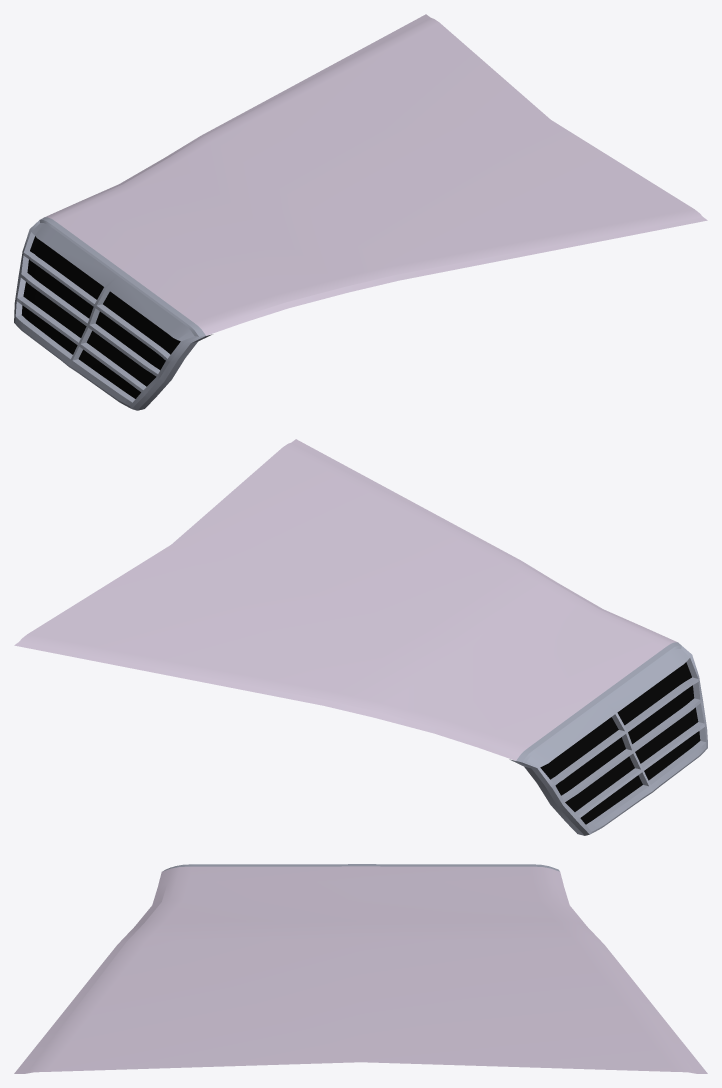
Rendered from Cofre_ANC.fbx.
3 views of the same model, one above another, from view 1: azimuth 30°, elevation 25°; view 2: azimuth 150°, elevation 25°; view 3: azimuth 270°, elevation 25° (orthographic). The views are drawn at different scales.
Visible parts, largest first — view 1: Cofre; view 2: Cofre; view 3: Cofre.
Part boxes in pixels (x1,y1,x2,y2): Cofre: (14,14,707,410); Cofre: (14,439,707,835); Cofre: (14,864,707,1073).
Bounding box in the file's own units: 7.77 × 1.97 × 7.62.
